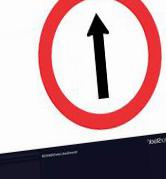forward: (38, 1, 161, 129)
